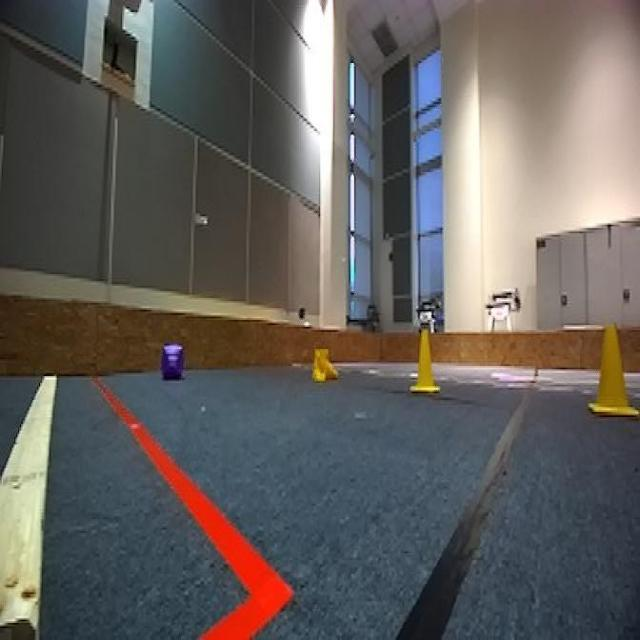frc_cone: (588, 325, 634, 415), (408, 325, 442, 395), (310, 347, 342, 383)
frc_cube: (160, 340, 185, 380)
